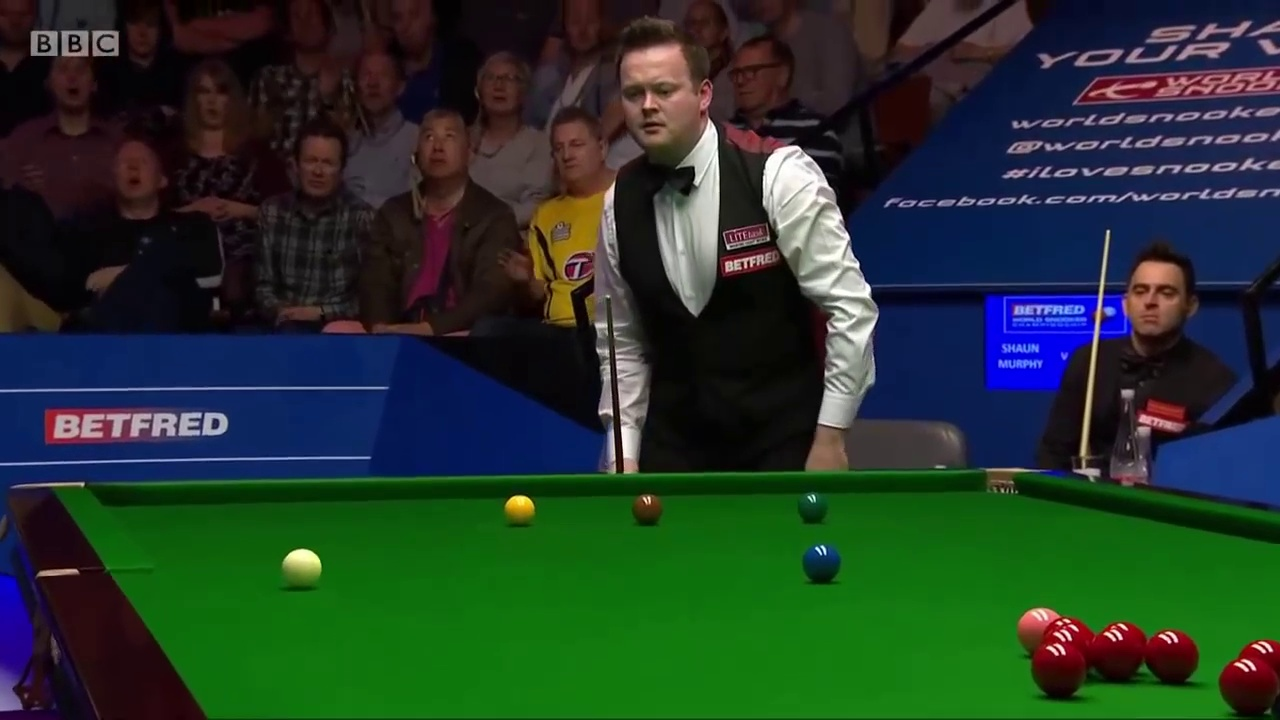blue: (804, 541, 839, 583)
brown: (635, 495, 664, 523)
green: (795, 491, 827, 522)
red: (1220, 654, 1277, 715), (1026, 645, 1087, 694), (1147, 629, 1198, 683), (1095, 631, 1143, 680)
white: (277, 548, 327, 586), (501, 493, 537, 524)
